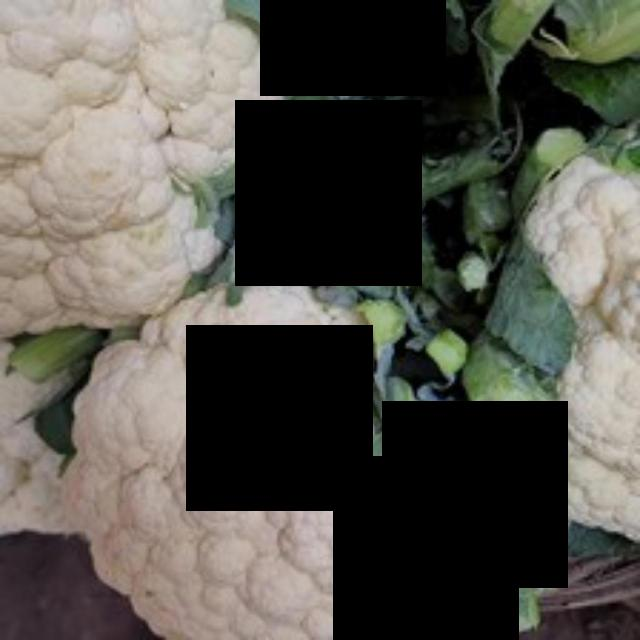cauliflower: (54, 254, 514, 637)
